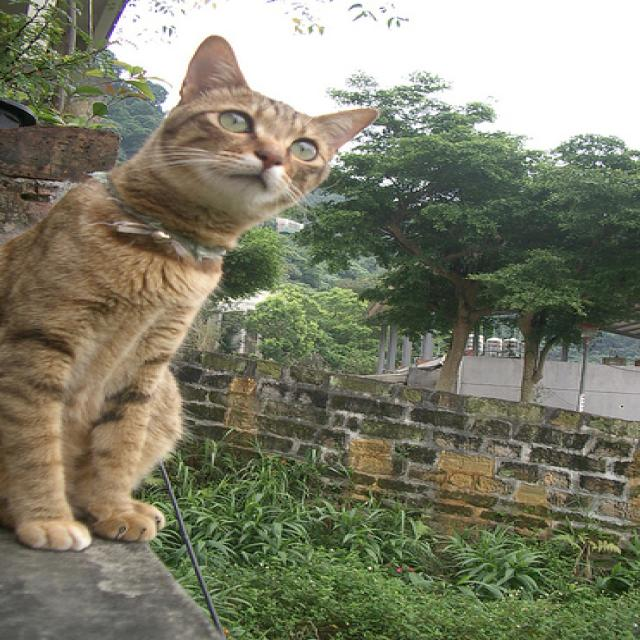cat: (1, 34, 381, 553)
